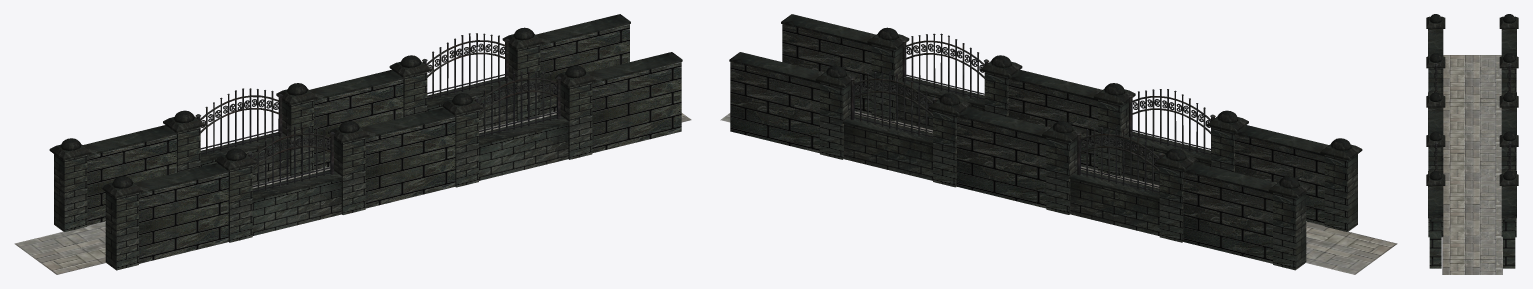
Rendered from pasillo.obj.
3 views of the same model, side by side, from view 1: azimuth 30°, elevation 25°; view 2: azimuth 150°, elevation 25°; view 3: azimuth 270°, elevation 25° (orthographic). The views are drawn at different scales.
Visible parts, largest first — view 1: MuroAlto_001_TijolinhoPilarGrande_001, MuroAlto_TijolinhoPilarGrande_001, MuroAlto_002_TijolinhoPilarGrande_001, MuroAlto_003_TijolinhoPilarGrande_001, MuroAlto_005_TijolinhoPilarGrande_001, MuroAlto_004_TijolinhoPilarGrande_001, MuroBaixo_001_Tijolinho_001, MuroBaixo_Tijolinho_001, Chao_006_Chao_001, Pilar_004_TijolinhoPilar_001, Pilar_005_TijolinhoPilar_001, Cylinder_001_MetalGrade_001 (+33 smaller); view 2: MuroAlto_005_TijolinhoPilarGrande_001, MuroAlto_004_TijolinhoPilarGrande_001, MuroAlto_003_TijolinhoPilarGrande_001, MuroAlto_002_TijolinhoPilarGrande_001, MuroAlto_TijolinhoPilarGrande_001, MuroAlto_001_TijolinhoPilarGrande_001, MuroBaixo_002_Tijolinho_001, MuroBaixo_003_Tijolinho_001, Chao_006_Chao_001, Pilar_005_TijolinhoPilar_001, Pilar_004_TijolinhoPilar_001, Cylinder_003_MetalGrade_001 (+33 smaller); view 3: Chao_Chao_001, Chao_003_Chao_001, Chao_001_Chao_001, Chao_002_Chao_001, Chao_005_Chao_001, Chao_006_Chao_001, Chao_004_Chao_001, MuroAlto_005_TijolinhoPilarGrande_001, MuroAlto_TijolinhoPilarGrande_001, MuroAlto_005_Pedra_001, MuroAlto_Pedra_001, MuroAlto_004_Pedra_001 (+23 smaller).
Part boxes in pixels (left/top/right/bottom): MuroAlto_001_TijolinhoPilarGrande_001: left=365, top=117, right=455, bottom=208; MuroAlto_TijolinhoPilarGrande_001: left=592, top=62, right=681, bottom=153; MuroAlto_002_TijolinhoPilarGrande_001: left=139, top=172, right=228, bottom=263; MuroAlto_003_TijolinhoPilarGrande_001: left=87, top=134, right=176, bottom=225; MuroAlto_005_TijolinhoPilarGrande_001: left=540, top=24, right=629, bottom=115; MuroAlto_004_TijolinhoPilarGrande_001: left=314, top=79, right=403, bottom=170; MuroBaixo_001_Tijolinho_001: left=252, top=179, right=341, bottom=235; MuroBaixo_Tijolinho_001: left=479, top=124, right=568, bottom=180; Chao_006_Chao_001: left=14, top=221, right=106, bottom=274; Pilar_004_TijolinhoPilar_001: left=105, top=192, right=138, bottom=270; Pilar_005_TijolinhoPilar_001: left=54, top=154, right=87, bottom=231; Cylinder_001_MetalGrade_001: left=473, top=71, right=561, bottom=136; MuroAlto_005_TijolinhoPilarGrande_001: left=730, top=62, right=819, bottom=153; MuroAlto_004_TijolinhoPilarGrande_001: left=957, top=117, right=1046, bottom=208; MuroAlto_003_TijolinhoPilarGrande_001: left=1183, top=172, right=1272, bottom=263; MuroAlto_002_TijolinhoPilarGrande_001: left=1235, top=134, right=1324, bottom=225; MuroAlto_TijolinhoPilarGrande_001: left=782, top=24, right=871, bottom=115; MuroAlto_001_TijolinhoPilarGrande_001: left=1008, top=79, right=1097, bottom=170; MuroBaixo_002_Tijolinho_001: left=1070, top=179, right=1159, bottom=235; MuroBaixo_003_Tijolinho_001: left=844, top=124, right=932, bottom=180; Chao_006_Chao_001: left=1305, top=221, right=1397, bottom=274; Pilar_005_TijolinhoPilar_001: left=1273, top=192, right=1306, bottom=270; Pilar_004_TijolinhoPilar_001: left=1324, top=154, right=1357, bottom=231; Cylinder_003_MetalGrade_001: left=850, top=71, right=937, bottom=137; Chao_Chao_001: left=1442, top=243, right=1502, bottom=274; Chao_003_Chao_001: left=1443, top=180, right=1501, bottom=212; Chao_001_Chao_001: left=1442, top=212, right=1502, bottom=243; Chao_002_Chao_001: left=1443, top=149, right=1501, bottom=180; Chao_005_Chao_001: left=1443, top=86, right=1501, bottom=117; Chao_006_Chao_001: left=1443, top=55, right=1501, bottom=86; Chao_004_Chao_001: left=1443, top=118, right=1501, bottom=149; MuroAlto_005_TijolinhoPilarGrande_001: left=1503, top=218, right=1515, bottom=268; MuroAlto_TijolinhoPilarGrande_001: left=1429, top=218, right=1441, bottom=268; MuroAlto_005_Pedra_001: left=1501, top=186, right=1516, bottom=218; MuroAlto_Pedra_001: left=1428, top=186, right=1443, bottom=218; MuroAlto_004_Pedra_001: left=1501, top=107, right=1516, bottom=134.
Size of the model in its own units: 121 by 17.25 by 21.48.
6 materials, 6 textured.
